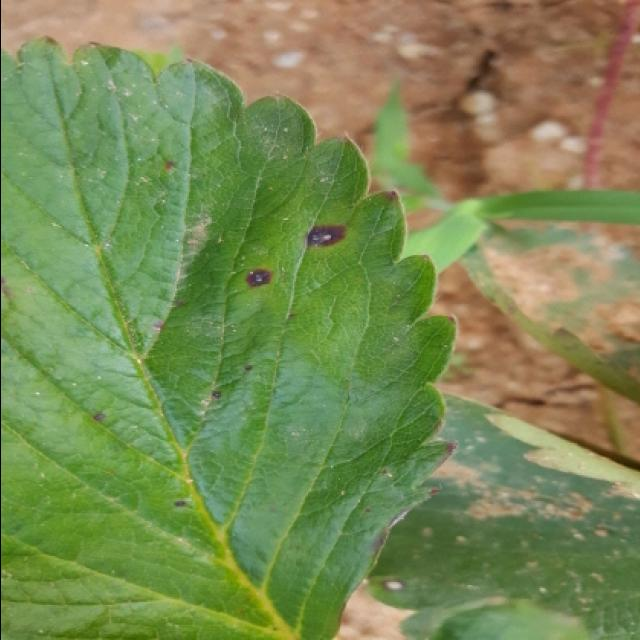Leaf Spot: (2, 34, 457, 640), (366, 389, 640, 640)
